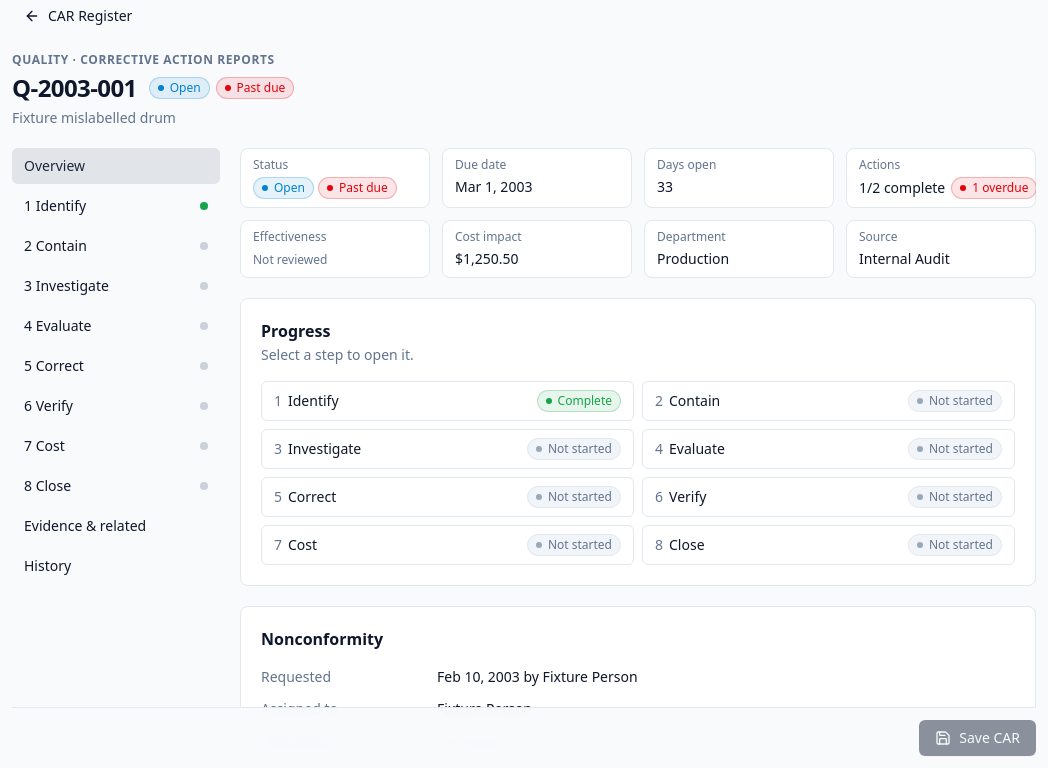
Scenario: CAR record › does not close a CAR with outstanding actions
The image size is (1048, 768).
Click the button "8 Close".
click(116, 486)  # box [12,468,220,504]
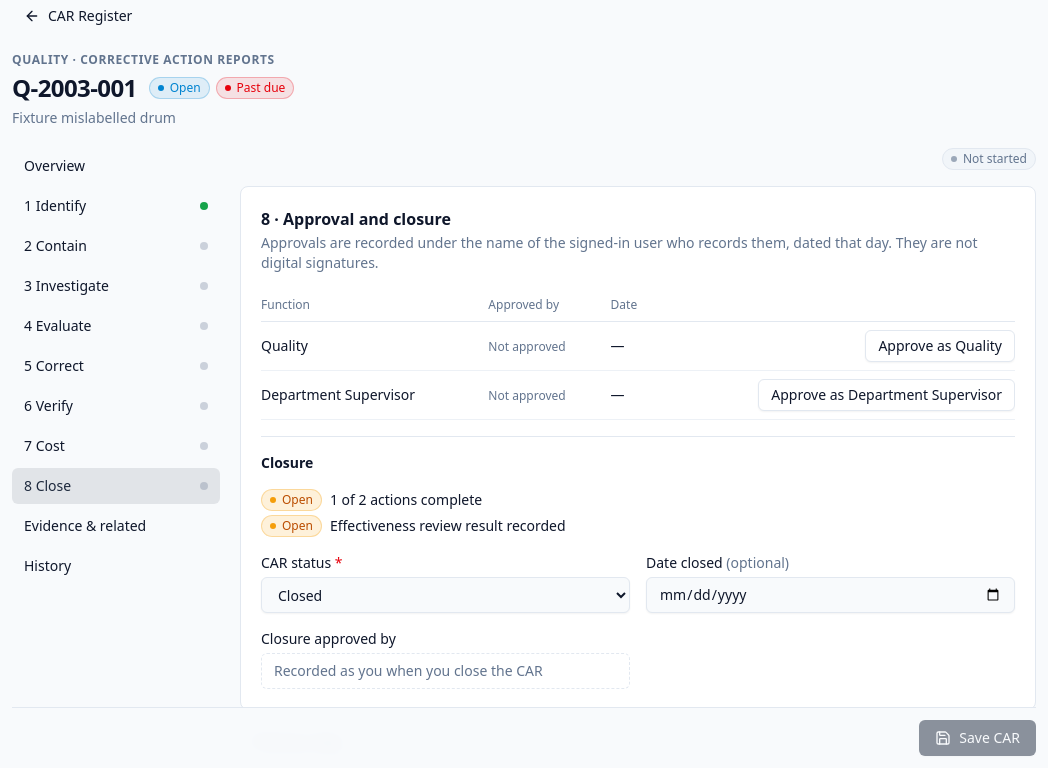
Expected: the text "1 of 2 actions complete" is shown, [330,490,482,509]
Select "Closed" in the dropdown labelled "CAR status *" at (446, 595), box [261,577,630,613]
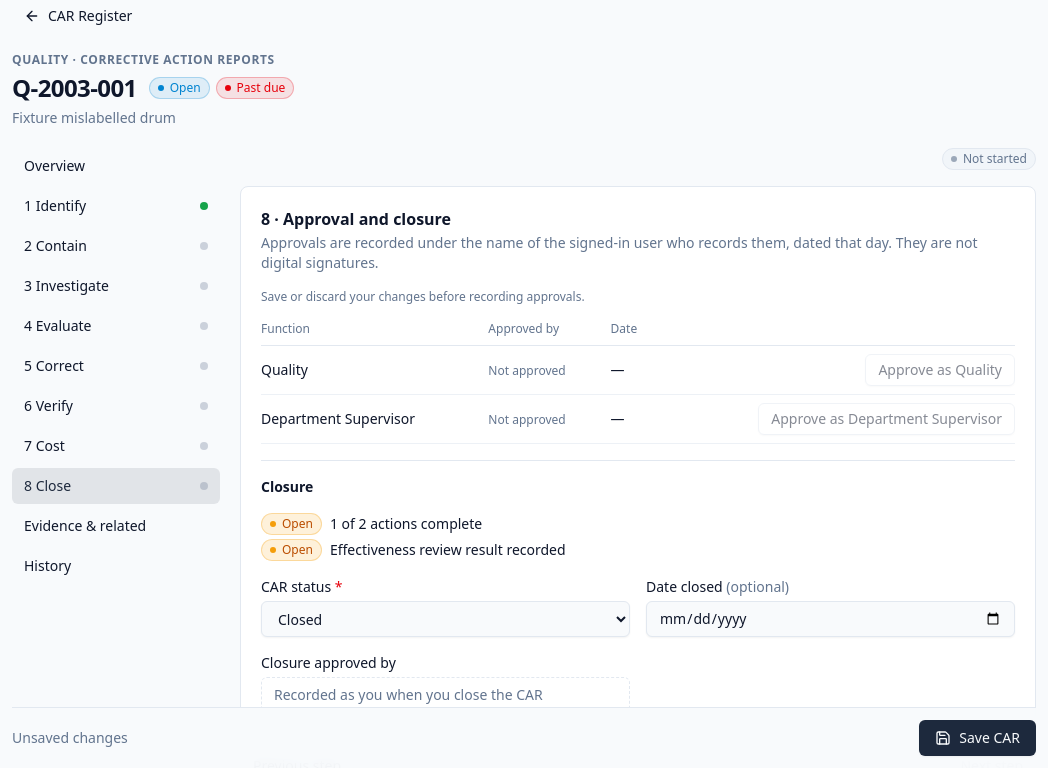
Click the button "Save CAR".
click(978, 738)  # box [919,720,1036,756]
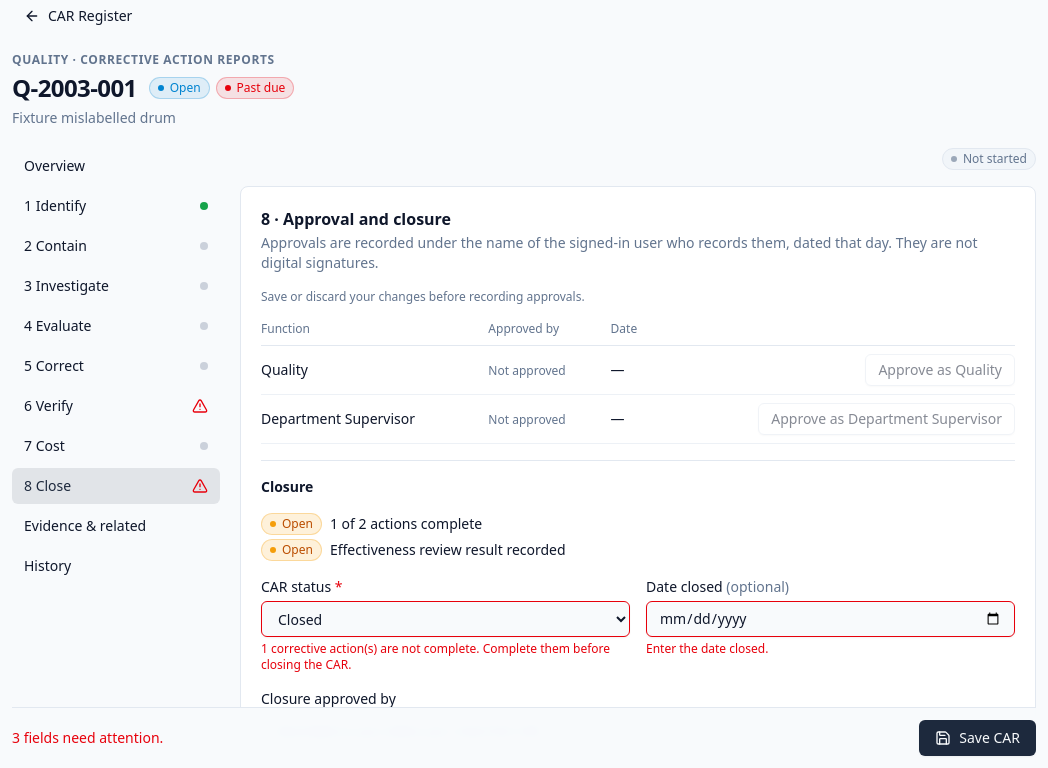
Expected: the text "1 corrective action(s) are not complete" is shown, [261,640,610,673]
